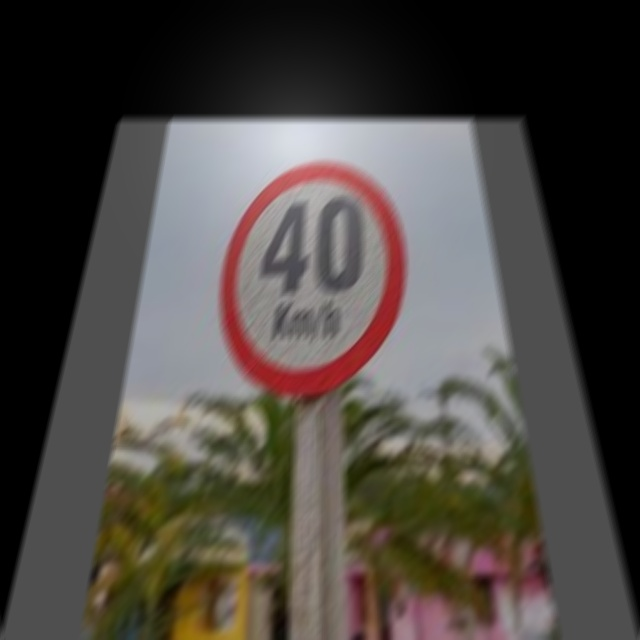Speed_Limit_40: (215, 161, 415, 384)
